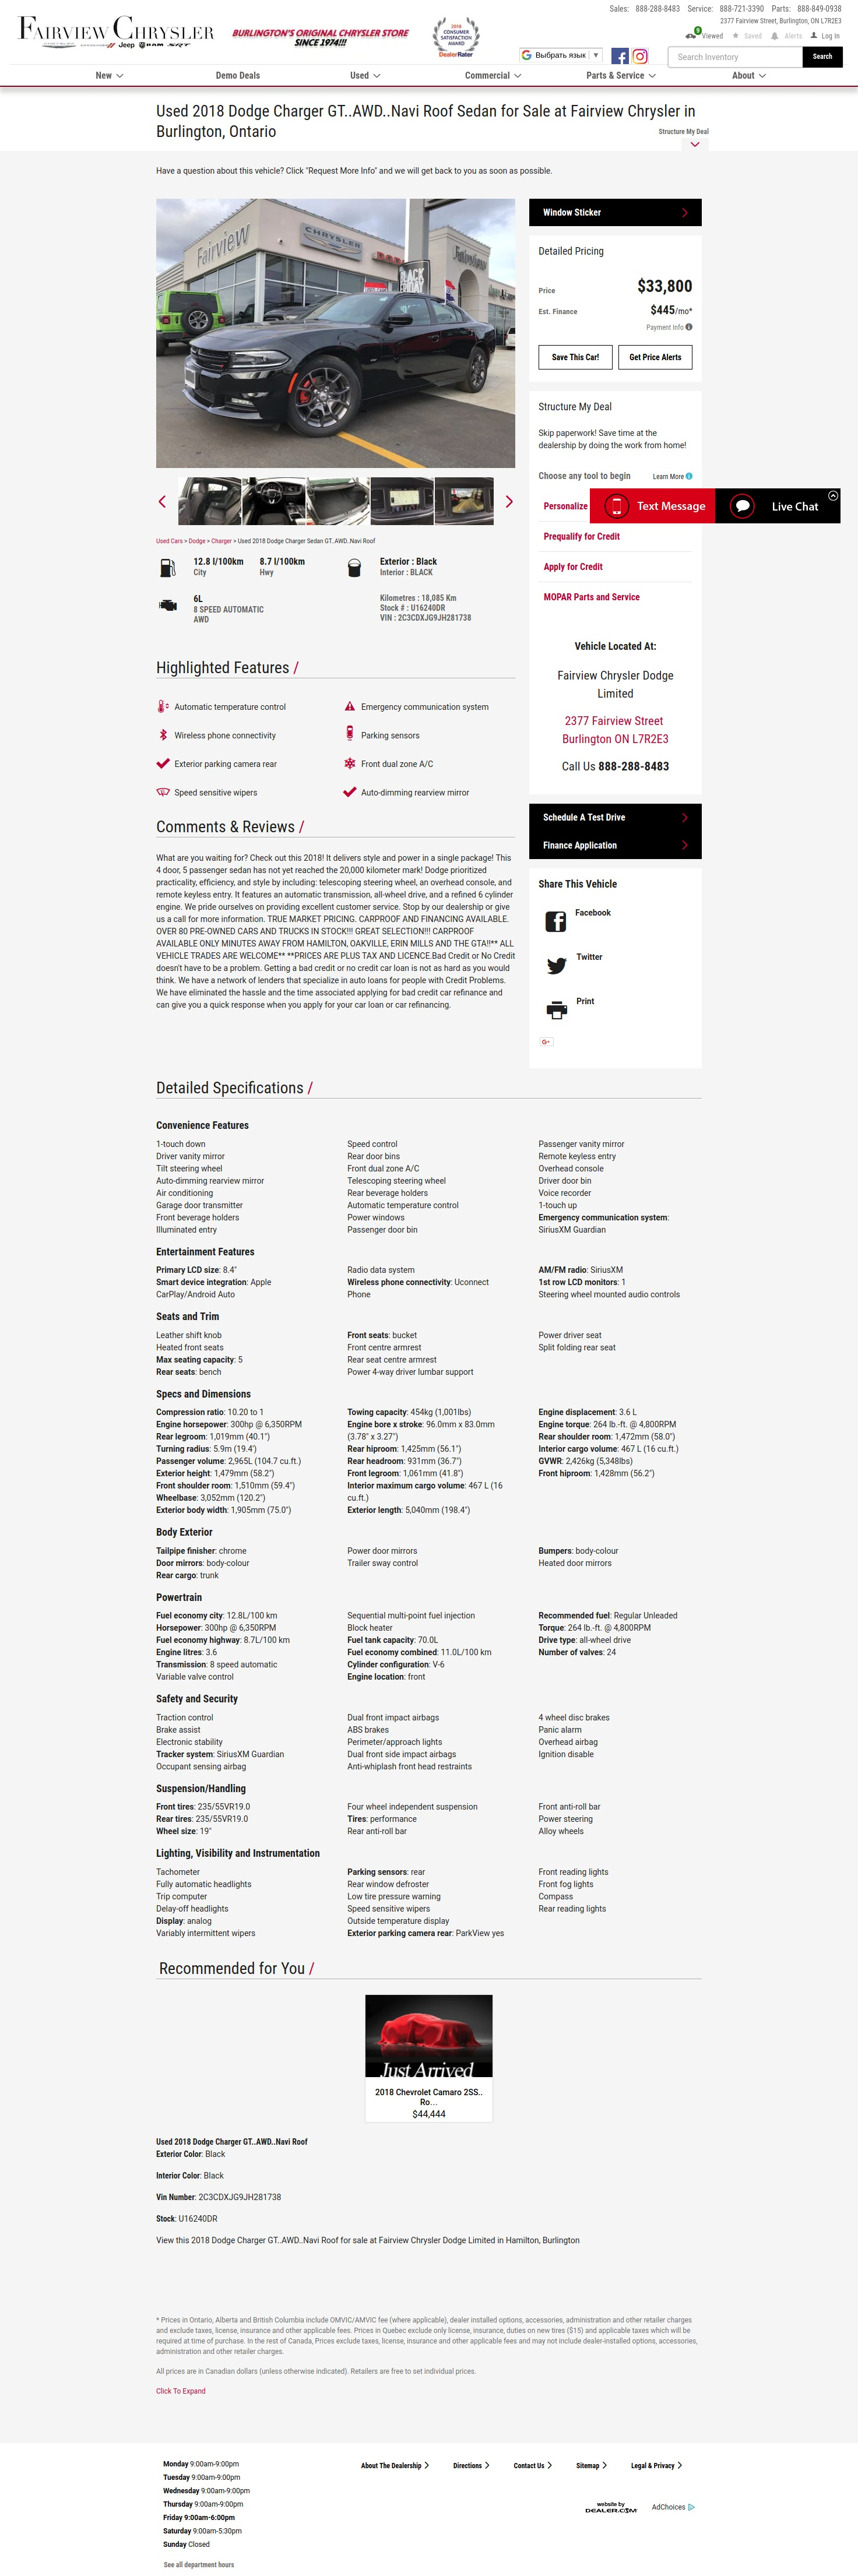car: (506, 496, 513, 509)
